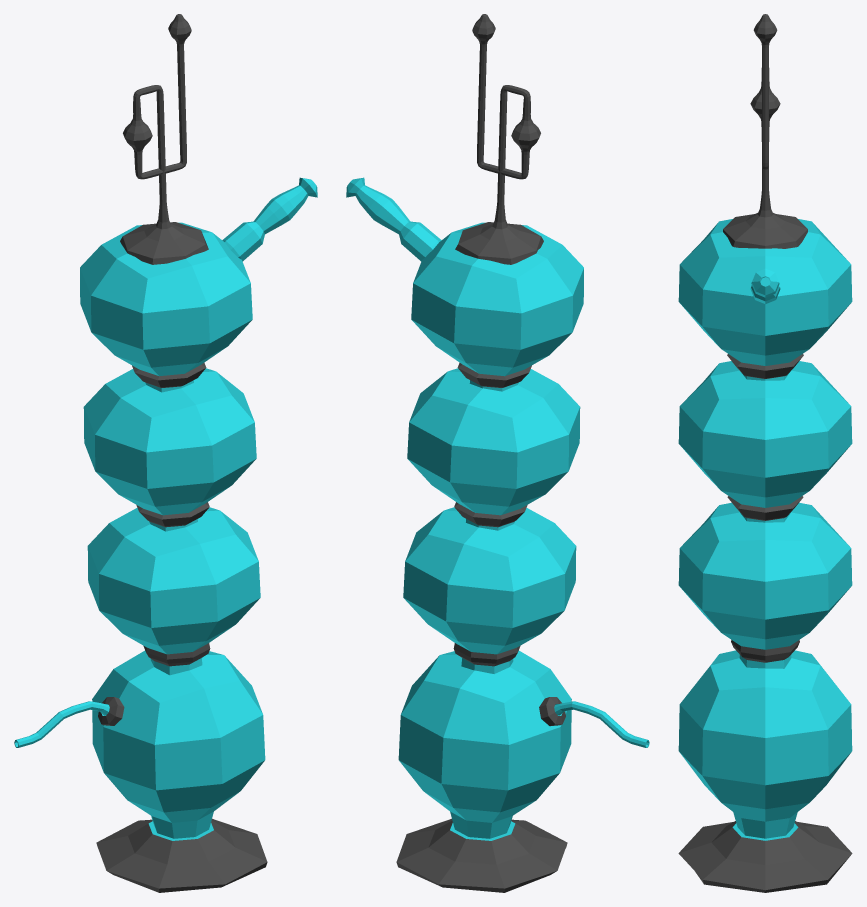
The model's file is QuadDrops.fbx.
3 renders of one model, left to right at view 1: azimuth 30°, elevation 25°; view 2: azimuth 150°, elevation 25°; view 3: azimuth 270°, elevation 25°, orthographic.
Parts seen in each view (by area): view 1: QuadDrops; view 2: QuadDrops; view 3: QuadDrops.
Boxes of the visible parts, x1,y1,x2,y2 form: QuadDrops: (14, 14, 317, 892); QuadDrops: (346, 14, 649, 892); QuadDrops: (678, 14, 852, 892).
Size of the model in its own units: 224 by 604 by 113.
